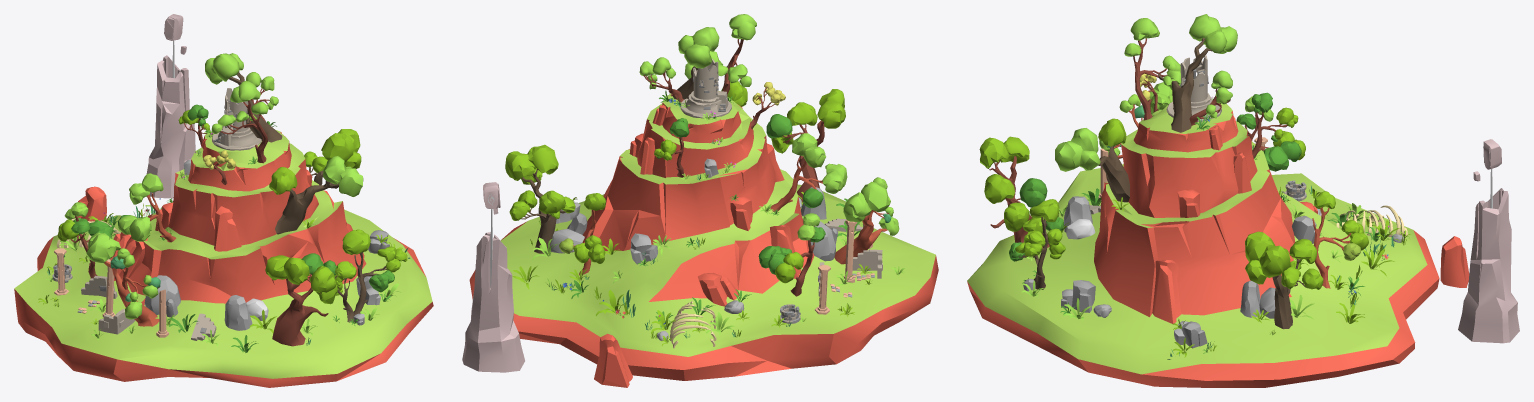
File: SpiralIsland.fbx
The picture shows the model from 3 angles, left to right: view 1: azimuth 30°, elevation 25°; view 2: azimuth 150°, elevation 25°; view 3: azimuth 270°, elevation 25°; orthographic projection. The views are drawn at different scales.
Visible parts, largest first — view 1: Plane.014, Cylinder.009, Cube.016, Cube.070, Cylinder.002, Mball.005, Mball.112, Mball.021, Mball.004, Cube.076, Mball.001, Icosphere.003 (+22 smaller); view 2: Plane.014, Cylinder.009, Cylinder.002, Mball.005, Cube.080, Mball.035, Mball.001, Mball.112, Mball.004, Cube.013, Mball.061, Cube.038 (+18 smaller); view 3: Plane.014, Cylinder.009, Mball.005, Cube.077, Mball.021, Cube.015, Mball.001, Cube.080, Mball.004, Cylinder.002, Mball.112, Cube.070 (+21 smaller).
Boxes of the visible parts, box(x1,y1,x2,y2) form: Plane.014: box(14, 130, 433, 387); Cylinder.009: box(146, 55, 195, 198); Cube.016: box(272, 276, 328, 346); Cube.070: box(275, 181, 338, 234); Cylinder.002: box(212, 88, 261, 150); Mball.005: box(321, 129, 361, 168); Mball.112: box(211, 81, 268, 133); Mball.021: box(323, 156, 363, 196); Mball.004: box(265, 255, 309, 284); Cube.076: box(214, 206, 241, 251); Mball.001: box(205, 53, 243, 84); Icosphere.003: box(224, 295, 252, 330); Plane.014: box(469, 91, 938, 380); Cylinder.009: box(462, 232, 524, 372); Cylinder.002: box(680, 59, 731, 118); Mball.005: box(505, 144, 558, 184); Cube.080: box(594, 333, 632, 387); Mball.035: box(843, 181, 890, 221); Mball.001: box(678, 27, 719, 68); Mball.112: box(718, 14, 756, 87); Mball.004: box(817, 89, 845, 128); Cube.013: box(834, 210, 887, 264); Mball.061: box(792, 133, 826, 167); Cube.038: box(522, 169, 565, 253); Plane.014: box(967, 99, 1439, 387); Cylinder.009: box(1458, 188, 1519, 343); Mball.005: box(1245, 231, 1290, 284); Cube.077: box(1152, 260, 1181, 323); Mball.021: box(1055, 128, 1100, 171); Cube.015: box(1158, 38, 1212, 132); Mball.001: box(1189, 14, 1237, 53); Cube.080: box(1440, 236, 1469, 287); Mball.004: box(979, 136, 1029, 168); Cylinder.002: box(1166, 55, 1221, 122); Mball.112: box(1124, 18, 1181, 86); Cube.070: box(1098, 145, 1129, 202).
Bounding box in the file's own units: 14183 × 9432 × 16549.
